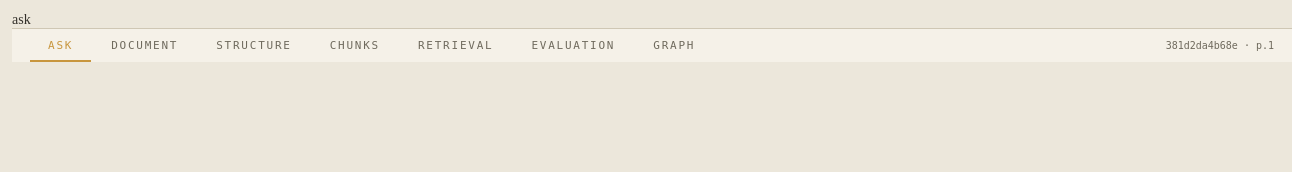
Test: workspace shell › switches tabs by click
Click the tab with test id "tab-chunks" at {"x": 355, "y": 46}, box [312,29,398,62]
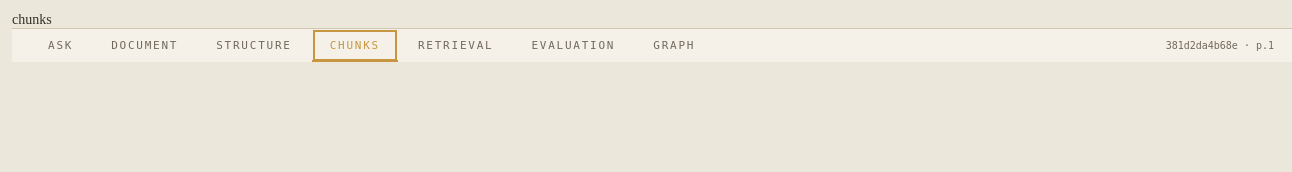
Expected: the text with test id "active-tab" reads "chunks", [12,12,52,27]
